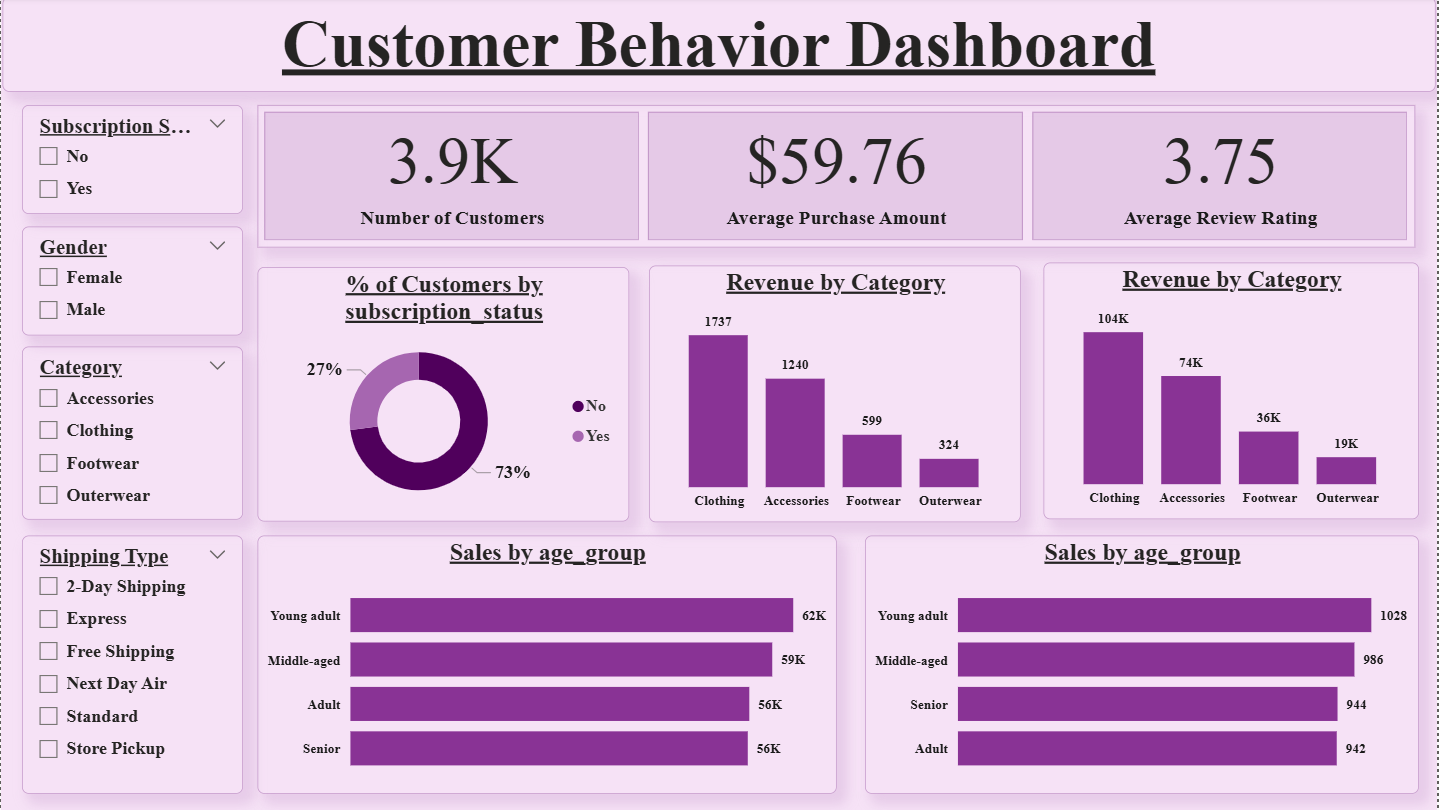

The dashboard page shown, as its layout file describes it:
{"tool":"powerbi","page":{"name":"Page 1","canvas":[1282,727],"ordinal":0},"visuals":[{"type":"cardVisual","fields":{"Data":["customer_shopping_behavior_cleaned.Number of Customers","customer_shopping_behavior_cleaned.Average Purchase Amount","customer_shopping_behavior_cleaned.Average Review Rating"]},"box":[229,97.1,1034.3,127.4],"z":0},{"type":"donutChart","title":"% of Customers by subscription_status","fields":{"Category":["customer_shopping_behavior_cleaned.subscription_status"],"Y":["customer_shopping_behavior_cleaned.Number of Customers"]},"box":[229,241.1,332.1,227.5],"z":1},{"type":"columnChart","title":"Revenue by Category","fields":{"Category":["customer_shopping_behavior_cleaned.category"],"Y":["Sum(customer_shopping_behavior_cleaned.purchase_amount)"]},"box":[931.2,236.6,335.2,229],"z":2},{"type":"clusteredBarChart","title":"Sales by age_group","fields":{"Category":["customer_shopping_behavior_cleaned.age_group"],"Y":["CountNonNull(customer_shopping_behavior_cleaned.item_purchased)"]},"box":[771.9,480.8,494.4,230.5],"z":3},{"type":"clusteredBarChart","title":"Sales by age_group","fields":{"Category":["customer_shopping_behavior_cleaned.age_group"],"Y":["Sum(customer_shopping_behavior_cleaned.purchase_amount)"]},"box":[229,480.8,517.2,230.5],"z":4},{"type":"textbox","box":[1.5,0,1280,84.9],"z":5},{"type":"columnChart","title":"Revenue by Category","fields":{"Category":["customer_shopping_behavior_cleaned.category"],"Y":["CountNonNull(customer_shopping_behavior_cleaned.item_purchased)"]},"box":[579.3,239.6,332.1,229],"z":6},{"type":"slicer","fields":{"Values":["customer_shopping_behavior_cleaned.subscription_status"]},"box":[18.2,97.1,197.2,97.1],"z":7},{"type":"slicer","fields":{"Values":["customer_shopping_behavior_cleaned.gender"]},"box":[18.2,204.7,197.2,97.1],"z":8},{"type":"slicer","fields":{"Values":["customer_shopping_behavior_cleaned.category"]},"box":[18.2,312.4,197.2,154.7],"z":9},{"type":"slicer","fields":{"Values":["customer_shopping_behavior_cleaned.shipping_type"]},"box":[18.2,480.8,197.2,230.5],"z":10}]}

Visuals, with their boxes in screenshot pixels (x1, y1, x2, y2), scaled from the page's 1282x727 canvas onto the 1439x810 screenshot:
cardVisual - customer_shopping_behavior_cleaned.Number of Customers x customer_shopping_behavior_cleaned.Average Purchase Amount: (257,108,1418,250)
"% of Customers by subscription_status" donutChart: (257,269,630,522)
"Revenue by Category" columnChart: (1045,264,1421,519)
"Sales by age_group" clusteredBarChart: (866,536,1421,793)
"Sales by age_group" clusteredBarChart: (257,536,838,793)
textbox: (2,0,1438,95)
"Revenue by Category" columnChart: (650,267,1023,522)
slicer - customer_shopping_behavior_cleaned.subscription_status: (20,108,242,216)
slicer - customer_shopping_behavior_cleaned.gender: (20,228,242,336)
slicer - customer_shopping_behavior_cleaned.category: (20,348,242,520)
slicer - customer_shopping_behavior_cleaned.shipping_type: (20,536,242,793)
